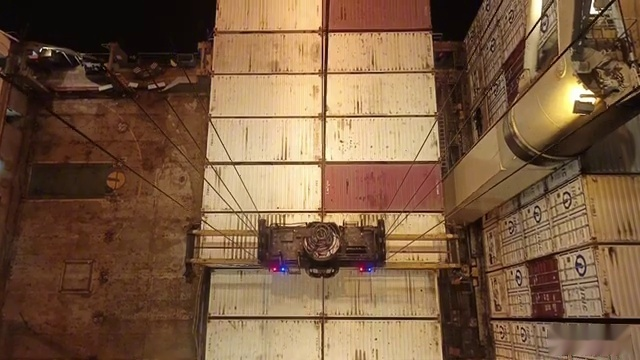container: (201, 211, 444, 269), (200, 164, 443, 211), (207, 271, 442, 316), (208, 118, 436, 164), (207, 320, 446, 360), (209, 74, 435, 116), (201, 349, 444, 359)
guide_mark: (65, 347, 560, 360), (112, 356, 545, 360)
spreader: (178, 214, 467, 283)
target_slot: (191, 207, 456, 275)
